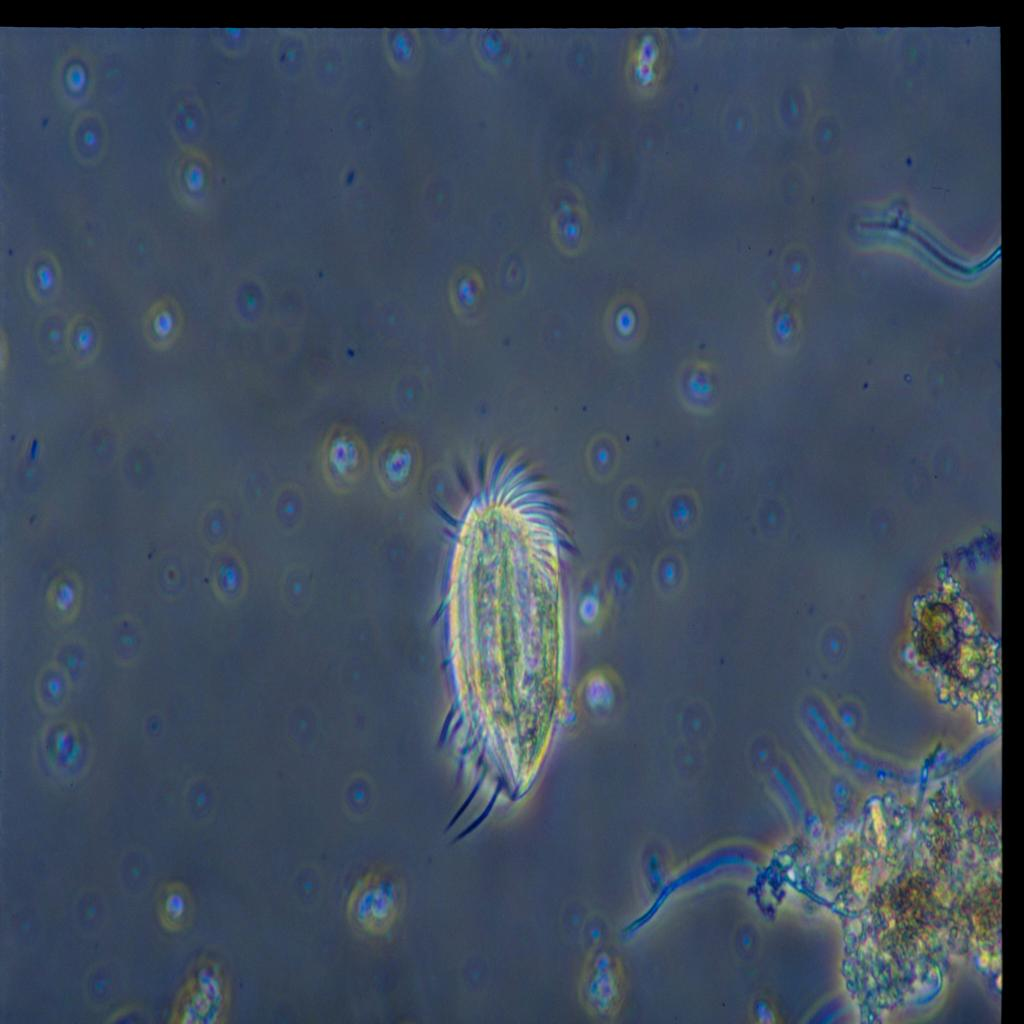Euplotes: (414, 424, 594, 870)
